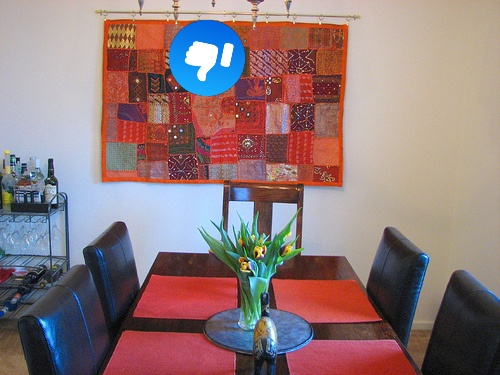like: (169, 20, 245, 96)
